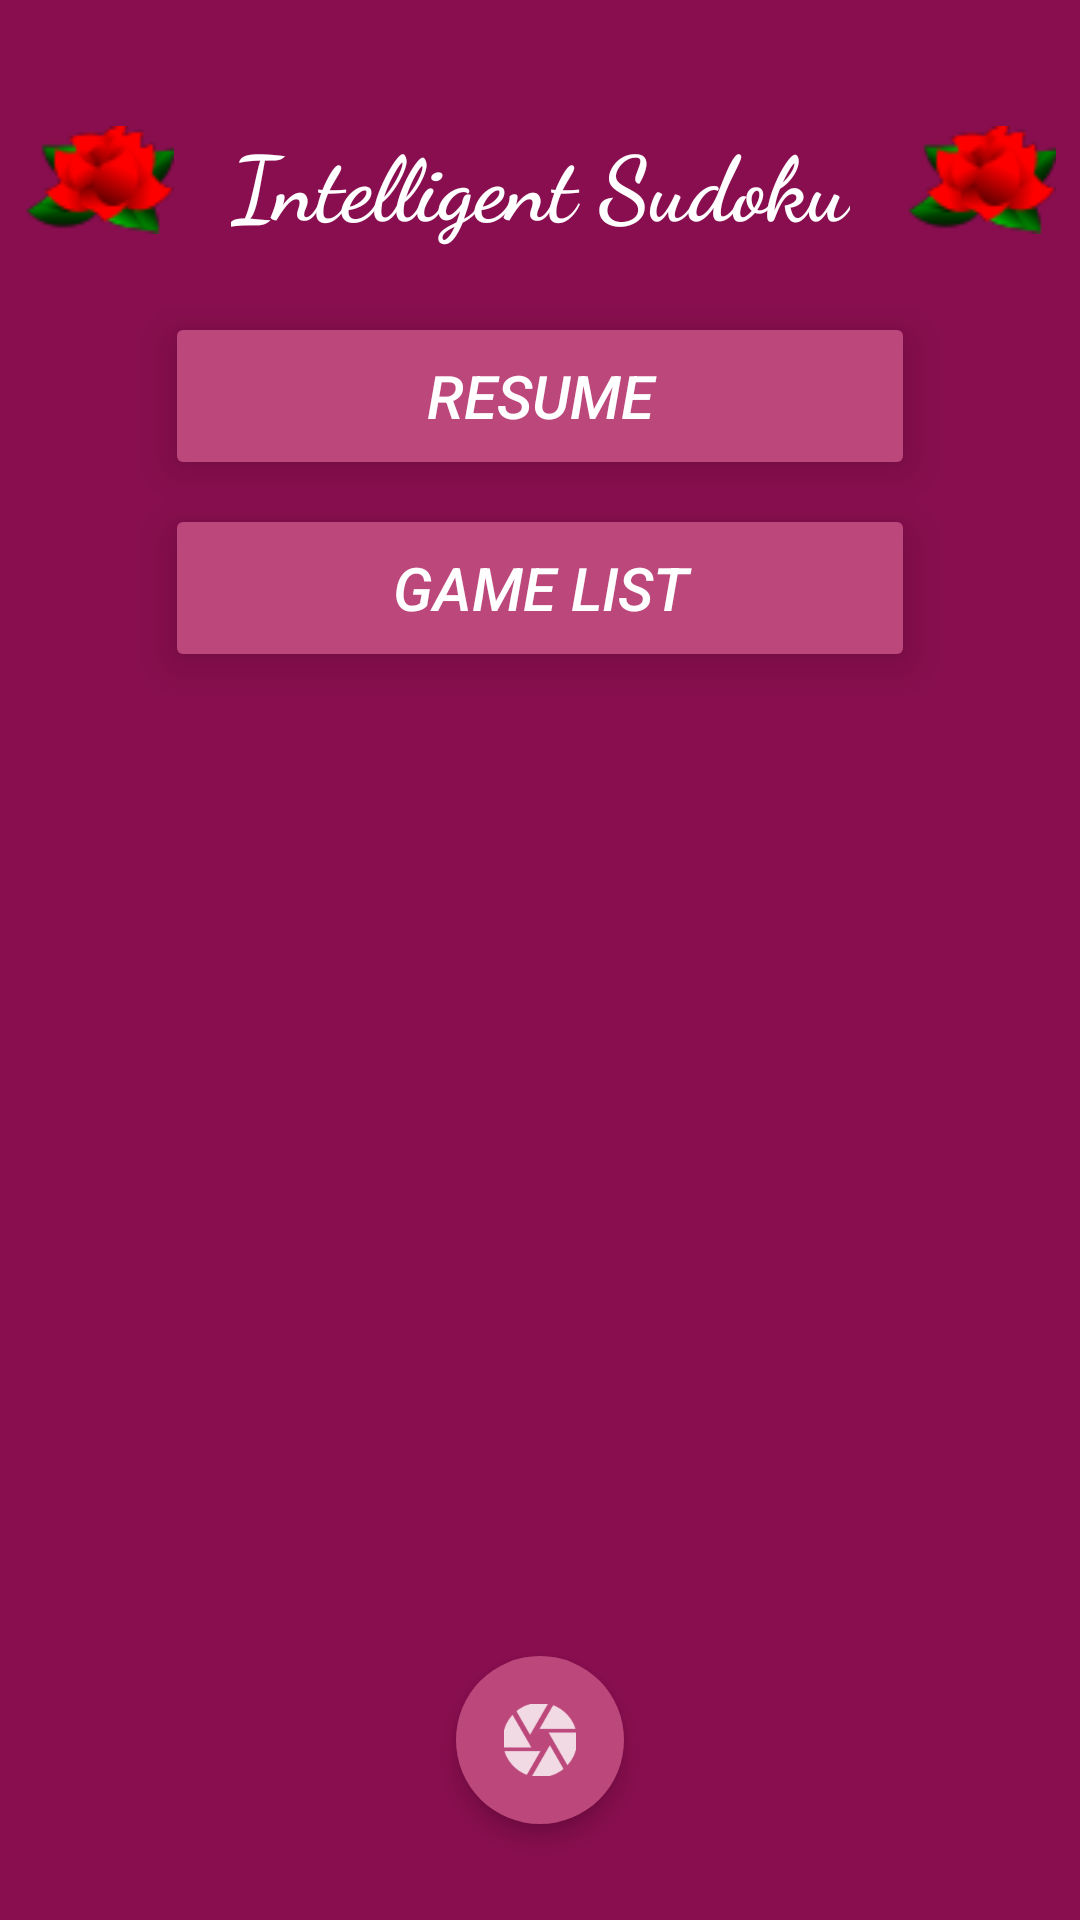

Named icons in this screenshot (1080*1920) and their bounding boxes, (x1, y1, x2, y2):
camera: (456, 1656, 624, 1824)
rose: (26, 126, 174, 234), (908, 126, 1056, 234)
